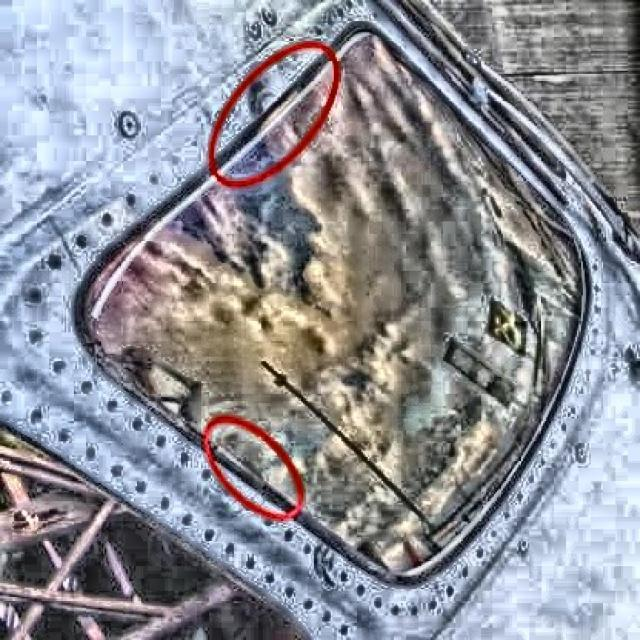crack: (312, 541, 335, 590)
